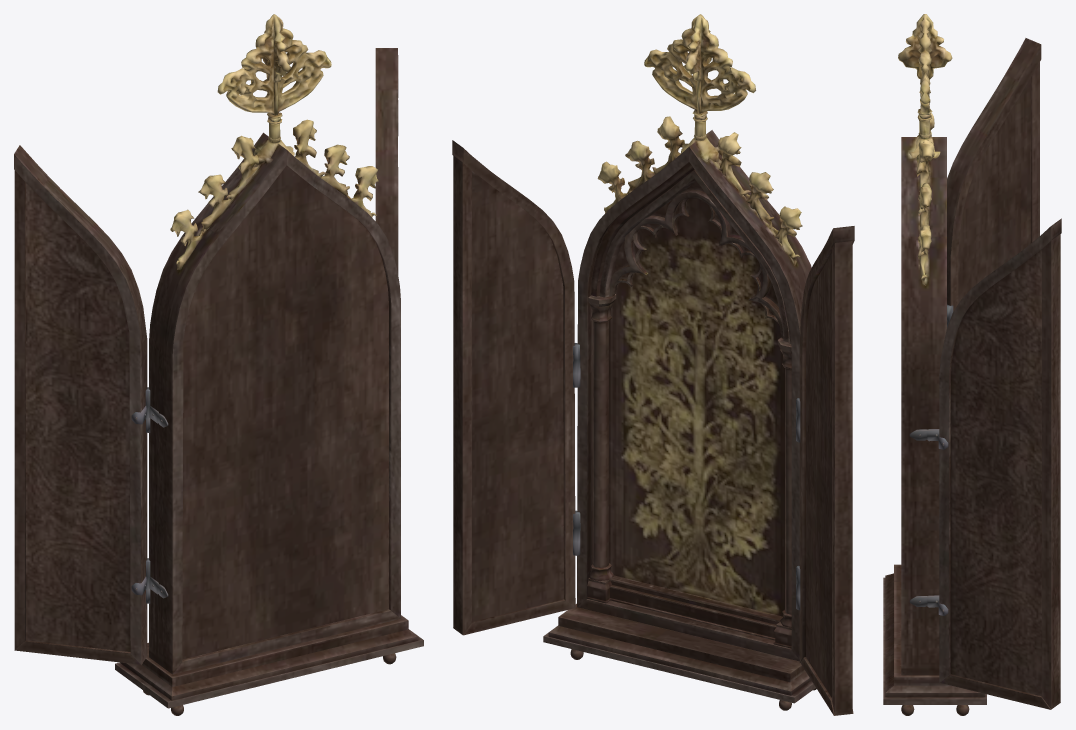
Rendered from AEG228_223-transformed.glb.
3 renders of one model, left to right at view 1: azimuth 30°, elevation 25°; view 2: azimuth 150°, elevation 25°; view 3: azimuth 270°, elevation 25°, orthographic. The views are drawn at different scales.
Parts seen in each view (by area): view 1: default; view 2: default; view 3: default.
Boxes of the visible parts, bbox=[...] form: default: bbox=[14, 14, 423, 715]; default: bbox=[452, 14, 854, 715]; default: bbox=[883, 14, 1061, 715].
Bounding box in the file's own units: 1.7 × 2.74 × 0.6795.
Materials: 1 (1 with a texture image).
